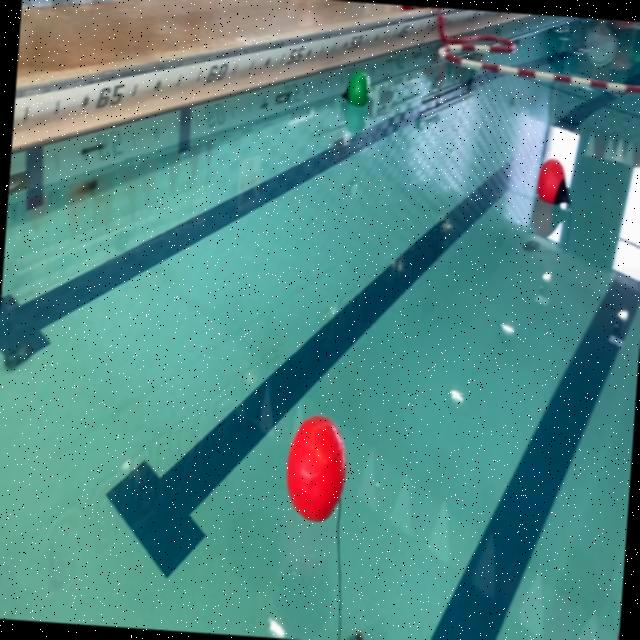buoy: (281, 411, 348, 524), (536, 158, 573, 206), (338, 70, 371, 108)
